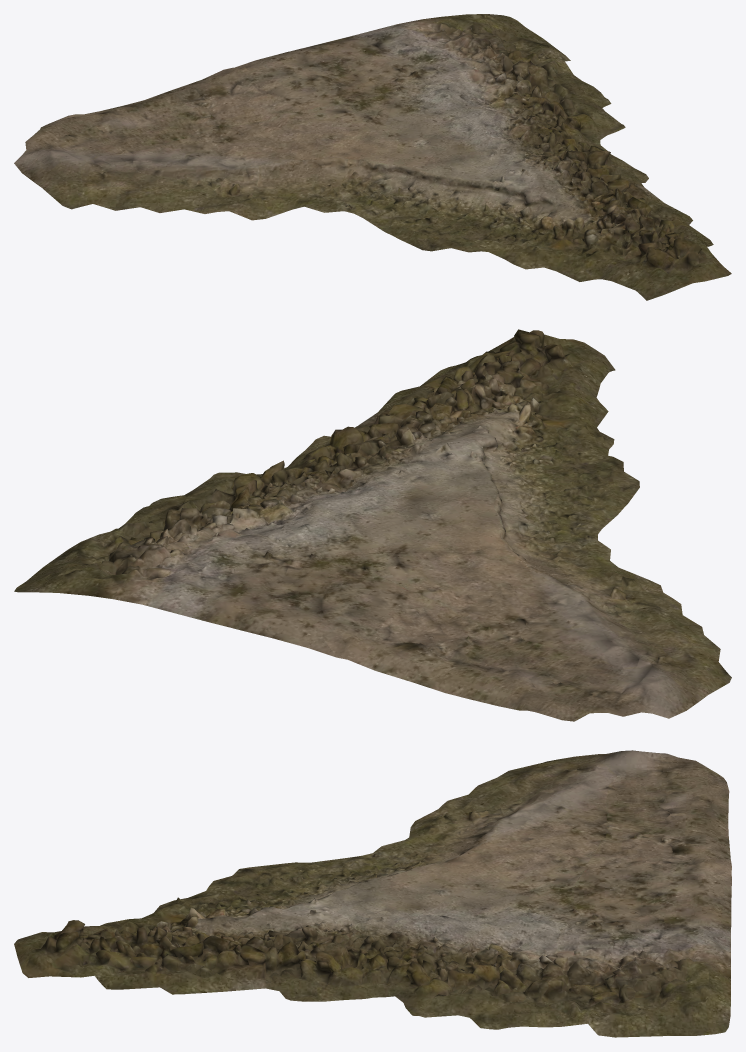
Rendered from coast_rocks_02.glb.
3 renders of one model, top to bottom at view 1: azimuth 30°, elevation 25°; view 2: azimuth 150°, elevation 25°; view 3: azimuth 270°, elevation 25°, orthographic. The views are drawn at different scales.
Parts seen in each view (by area): view 1: coast_rocks_02; view 2: coast_rocks_02; view 3: coast_rocks_02.
Boxes of the visible parts, x1,y1,x2,y2 form: coast_rocks_02: [14, 14, 731, 300]; coast_rocks_02: [14, 329, 731, 721]; coast_rocks_02: [14, 750, 731, 1037].
Size of the model in its own units: 45.96 by 3.06 by 49.46.
Materials: 1 (1 with a texture image).
